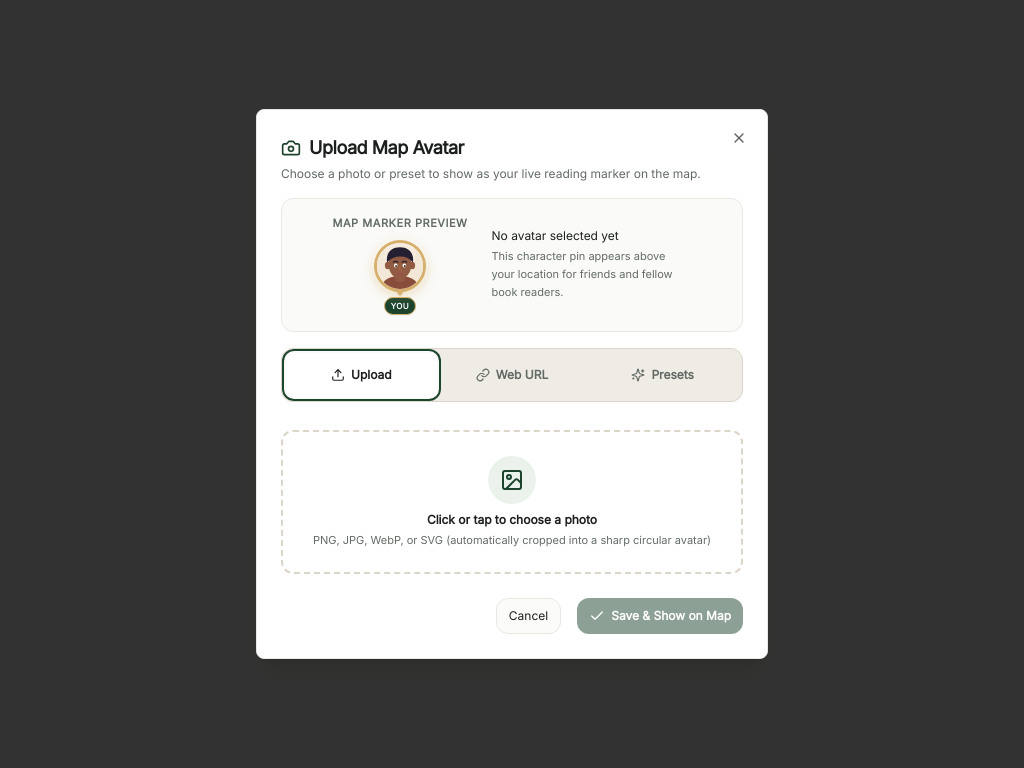
Test: AvatarUploadDialog › allows switching to Presets tab and selecting a reader preset
Later steps or results of the test are not shown.
Click the tab "Presets" at (663, 374), box top-left (587, 352), bottom-right (738, 396)
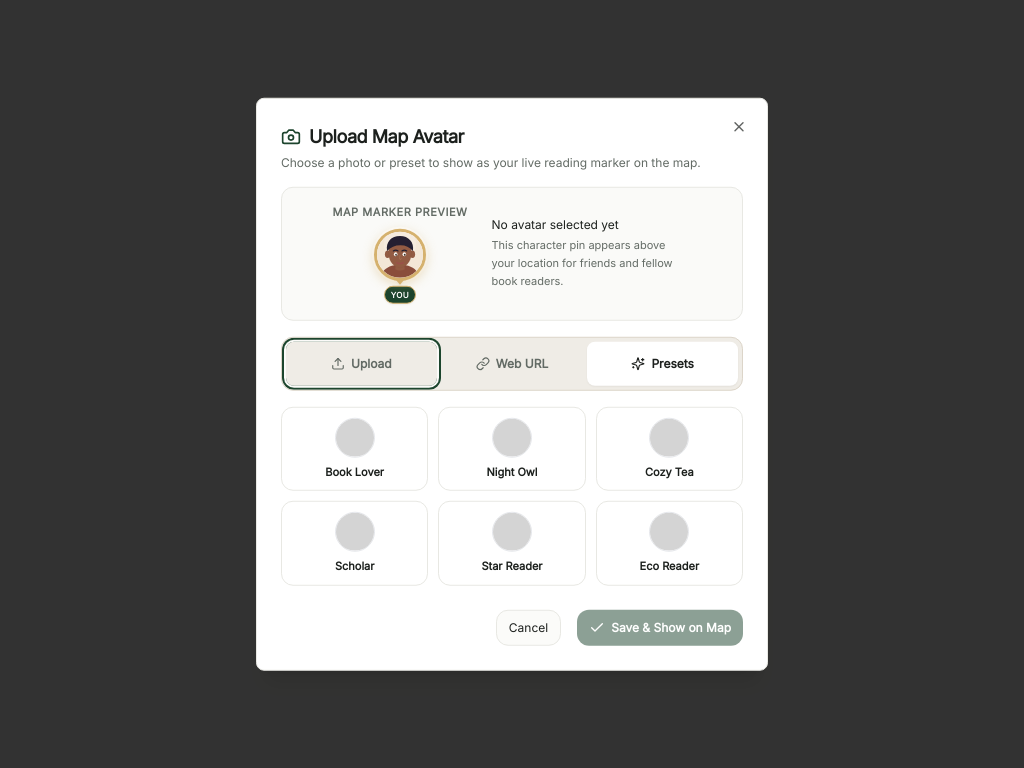
Check: the button "Book Lover" is shown
Click the button "Book Lover" at (355, 449), box top-left (281, 406), bottom-right (428, 491)
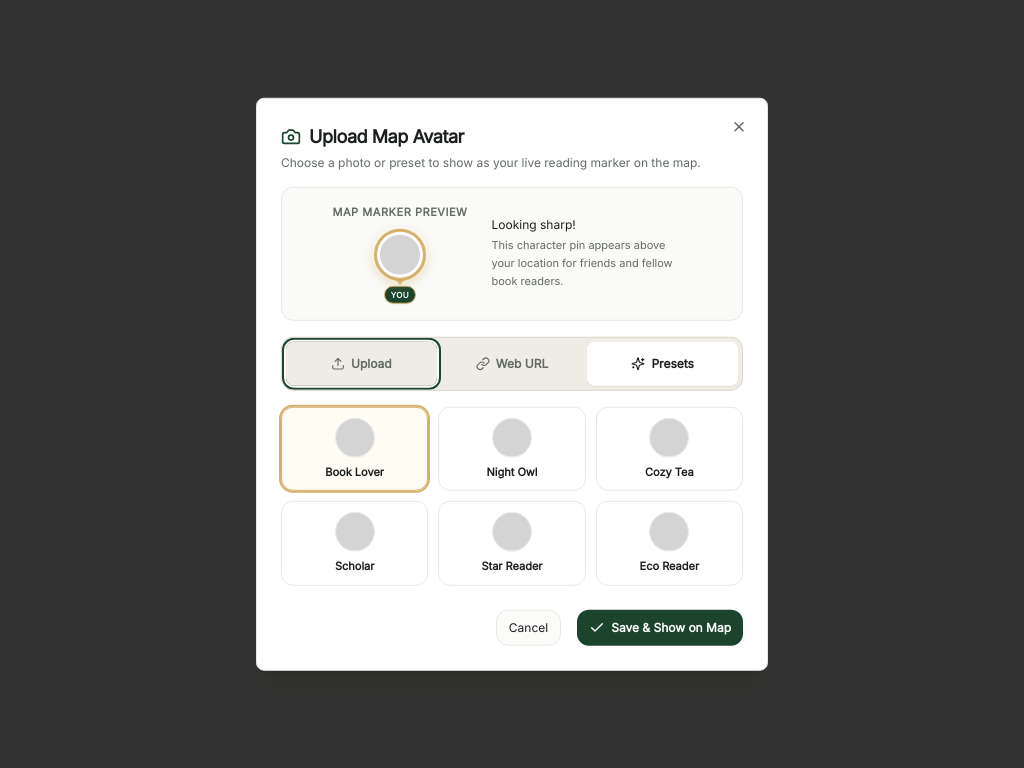
Check: the text "Looking sharp!" is shown, box top-left (492, 217), bottom-right (576, 232)
